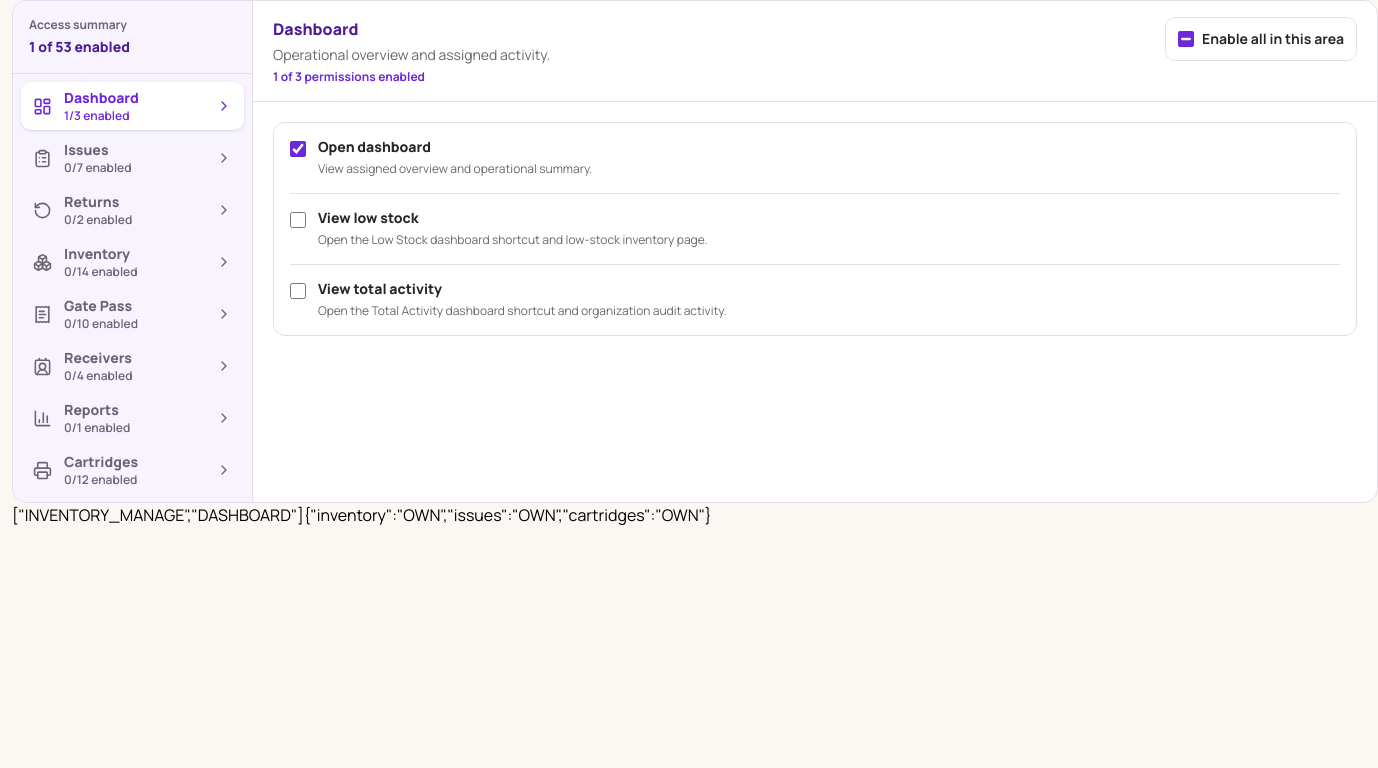
Test: AccessEditor › preserves hidden legacy permissions while visible permissions are edited
Click the checkbox labelled "Open dashboard" at (298, 149), box [290,141,306,157]
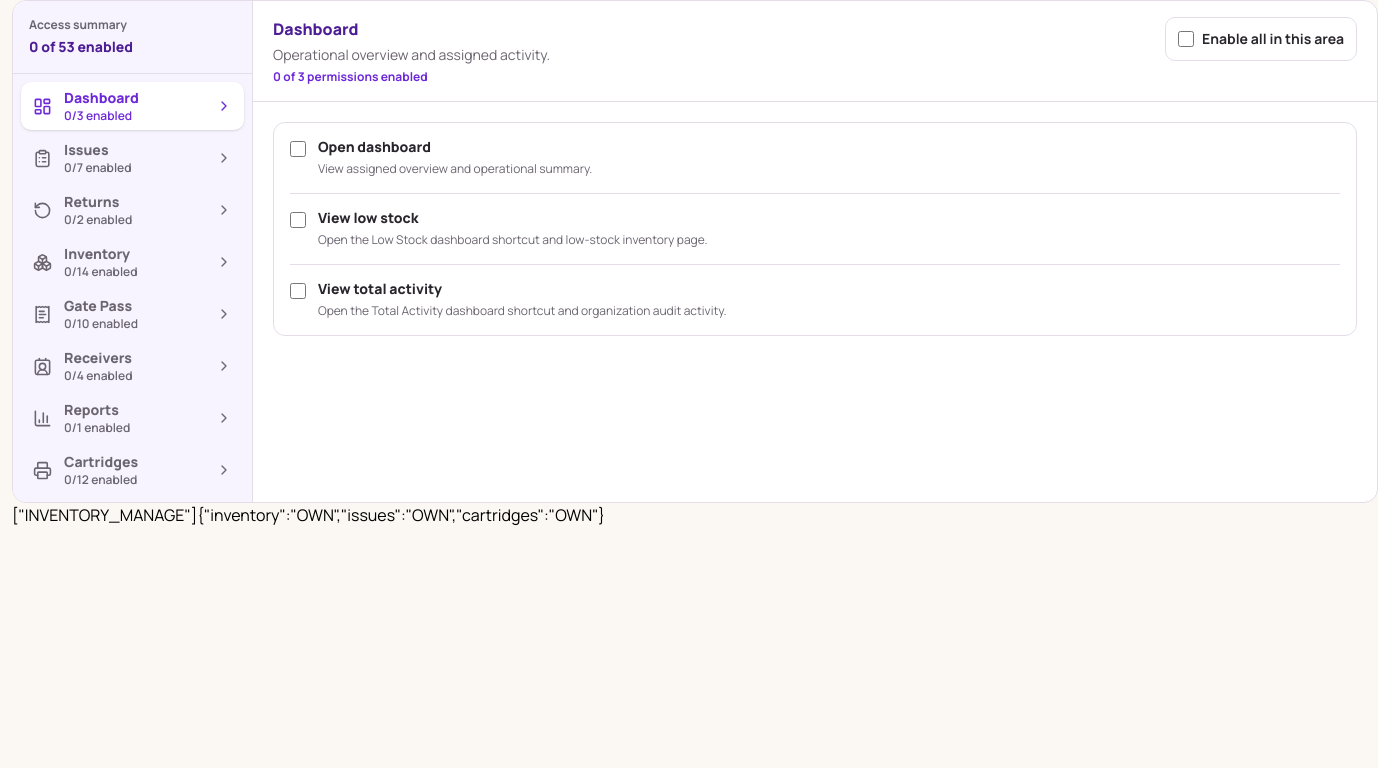
Check: the text with test id "permissions" reads "[\"INVENTORY_MANAGE\"]", box [12,504,197,526]
